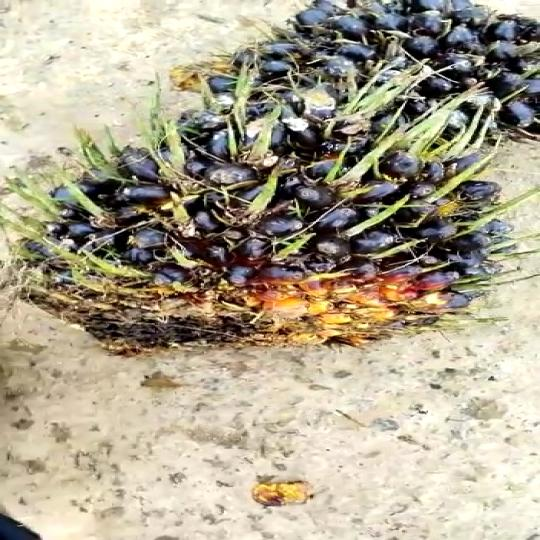mentah: (20, 91, 540, 358), (150, 0, 540, 157)
